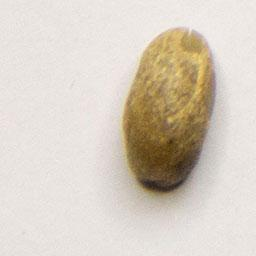longberry: (120, 21, 219, 195)
